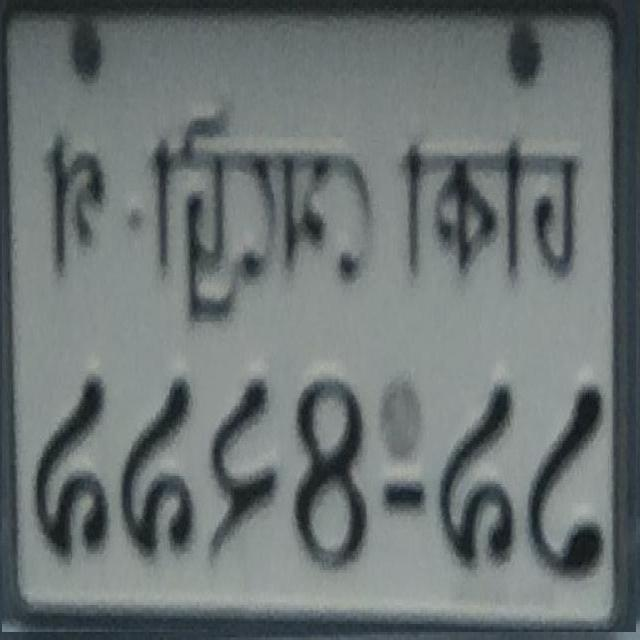cng: (263, 111, 489, 323)
numberplate: (2, 0, 636, 632)
